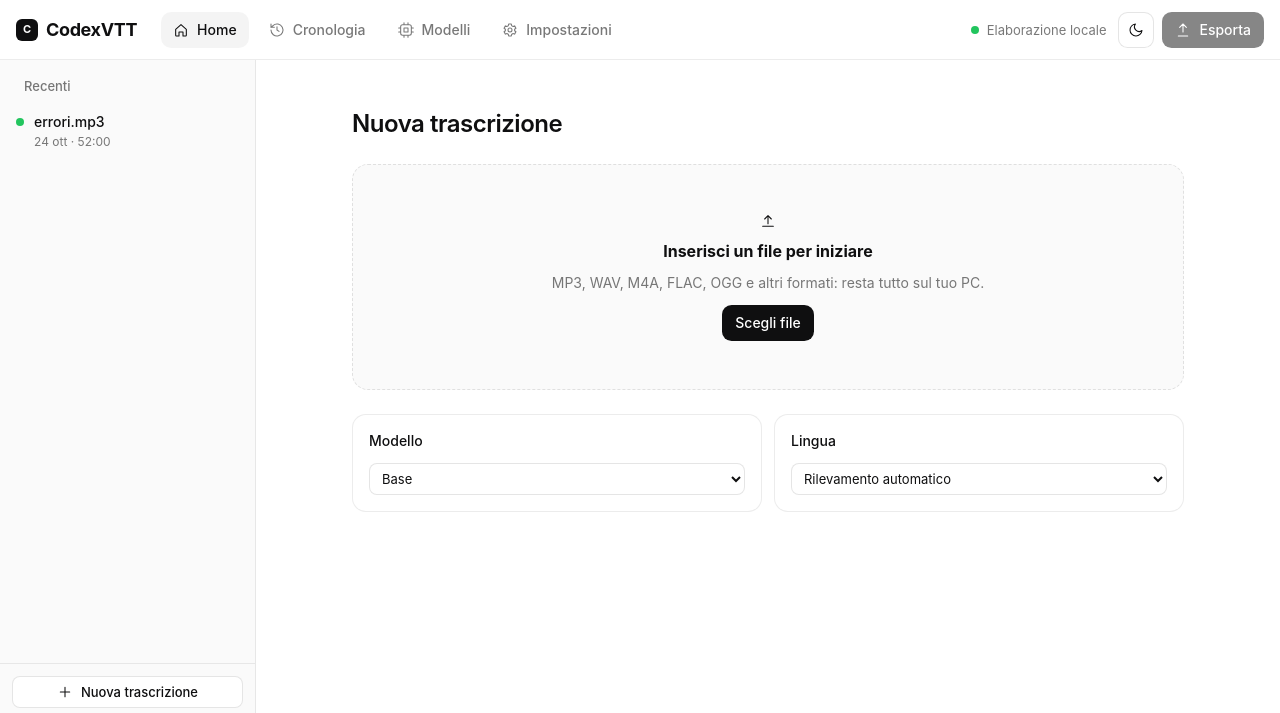
Test case: Editor a due pannelli › unisce due segmenti consecutivi
Click the button "errori.mp3 24 ott · 52:00" at (128, 132), box [8,104,247,160]
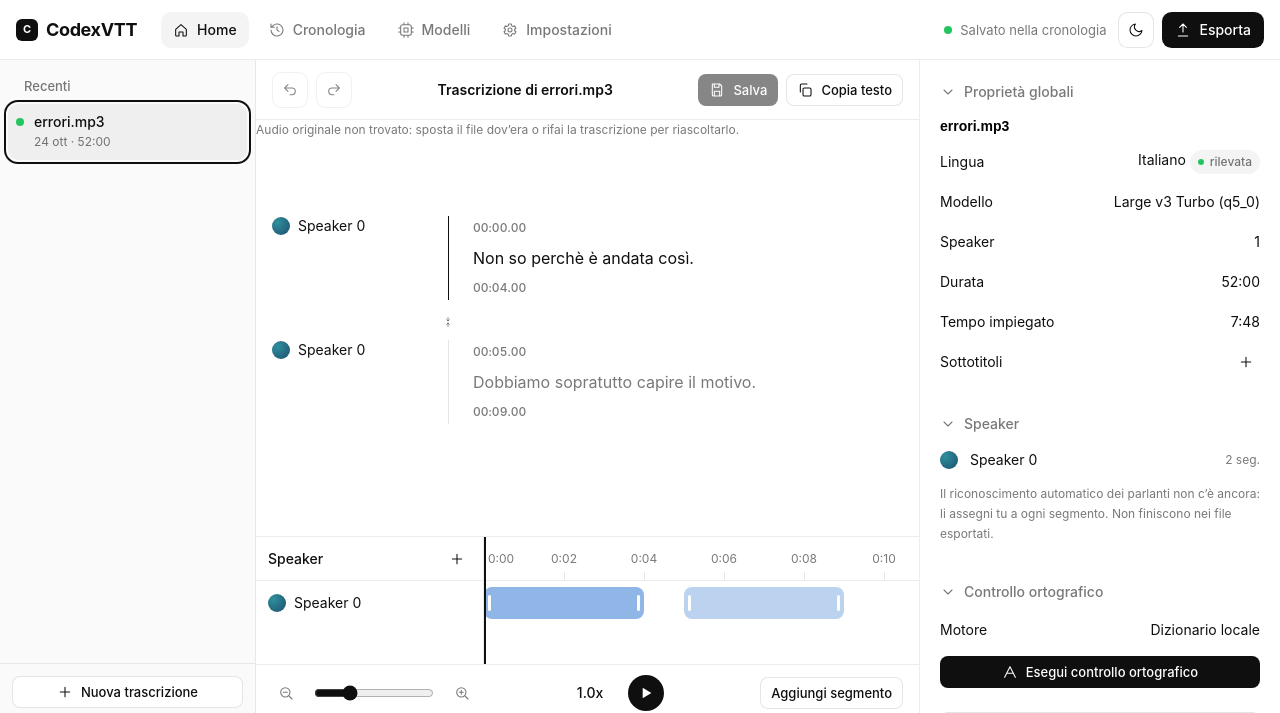
expect the heading "Trascrizione di errori.mp3" is shown: met, box [438,80,613,100]
Click the button named "Unisci con il successivo" at (448, 322), box [440,314,456,330]
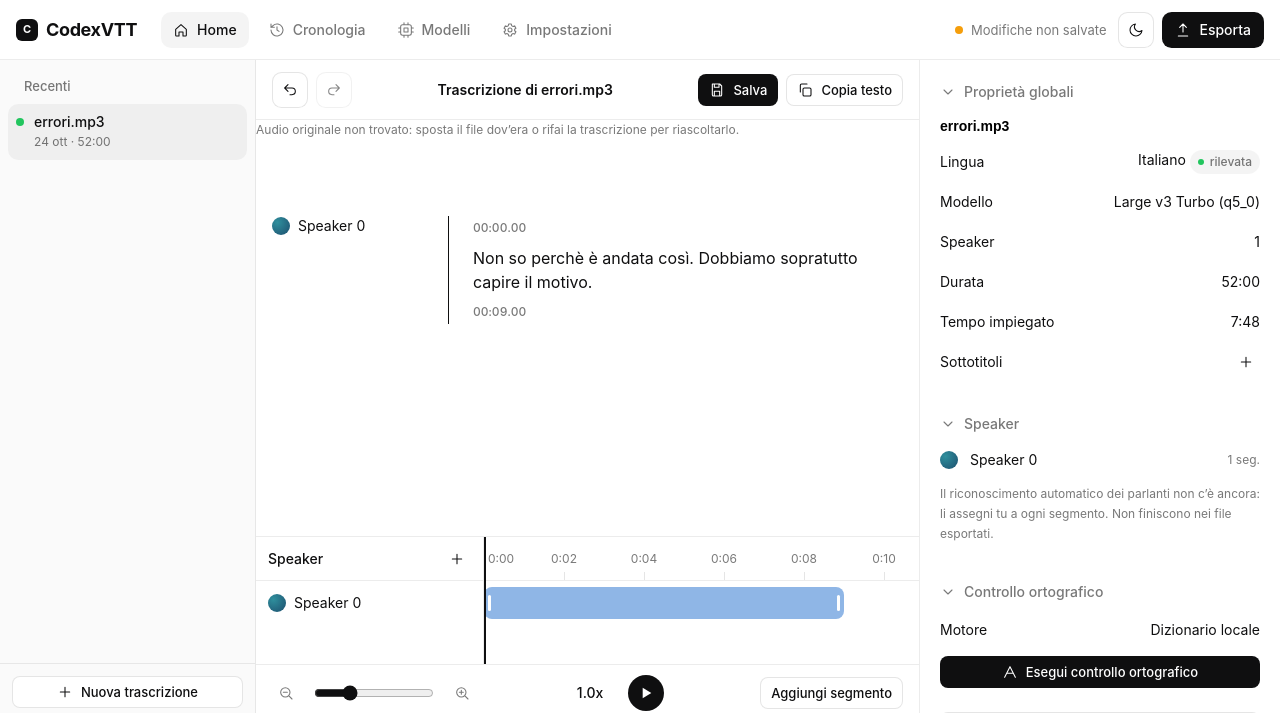
expect the number of fields named "Testo del segmento" is 1: met, box [473,246,903,294]
expect the field named "Testo del segmento" reads "Non so perchè è andata così. Dobbiamo sopratutto capire il motivo.": met, box [473,246,903,294]
